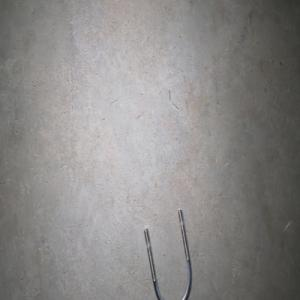ClampPart: (143, 208, 192, 300)
